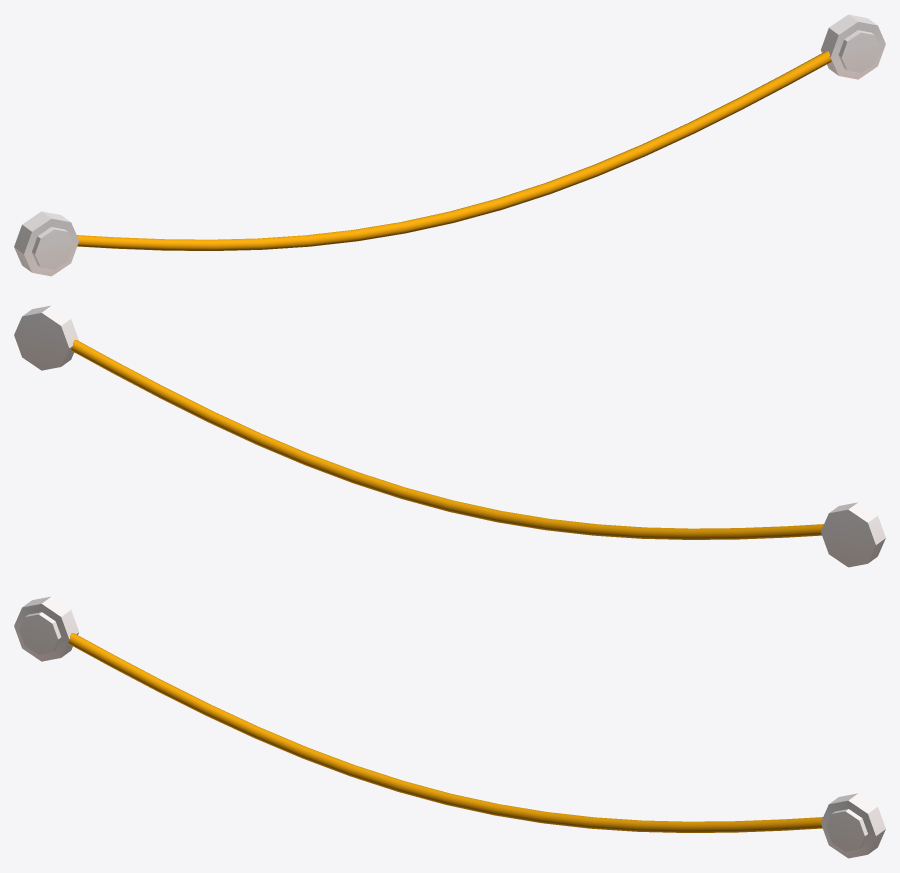
3 renders of one model, top to bottom at view 1: azimuth 30°, elevation 25°; view 2: azimuth 150°, elevation 25°; view 3: azimuth 330°, elevation 25°, orthographic.
Visible parts, largest first — view 1: lv8; view 2: lv8; view 3: lv8.
Boxes of the visible parts, x1=… form: lv8: x1=14, y1=14, x2=885, y2=276; lv8: x1=14, y1=305, x2=885, y2=567; lv8: x1=14, y1=596, x2=885, y2=858.
Size of the model in its own units: 66.53 by 7.78 by 1.71.
Materials: 1 (1 with a texture image).
